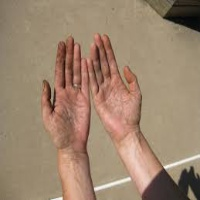ring: (92, 41, 105, 91), (73, 41, 81, 93)
